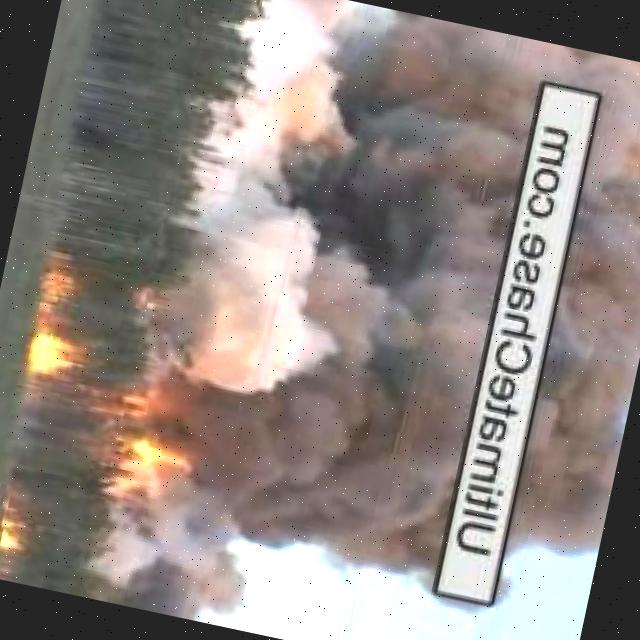fire: (124, 434, 213, 501), (29, 249, 86, 332), (23, 323, 86, 382), (0, 514, 37, 557)
